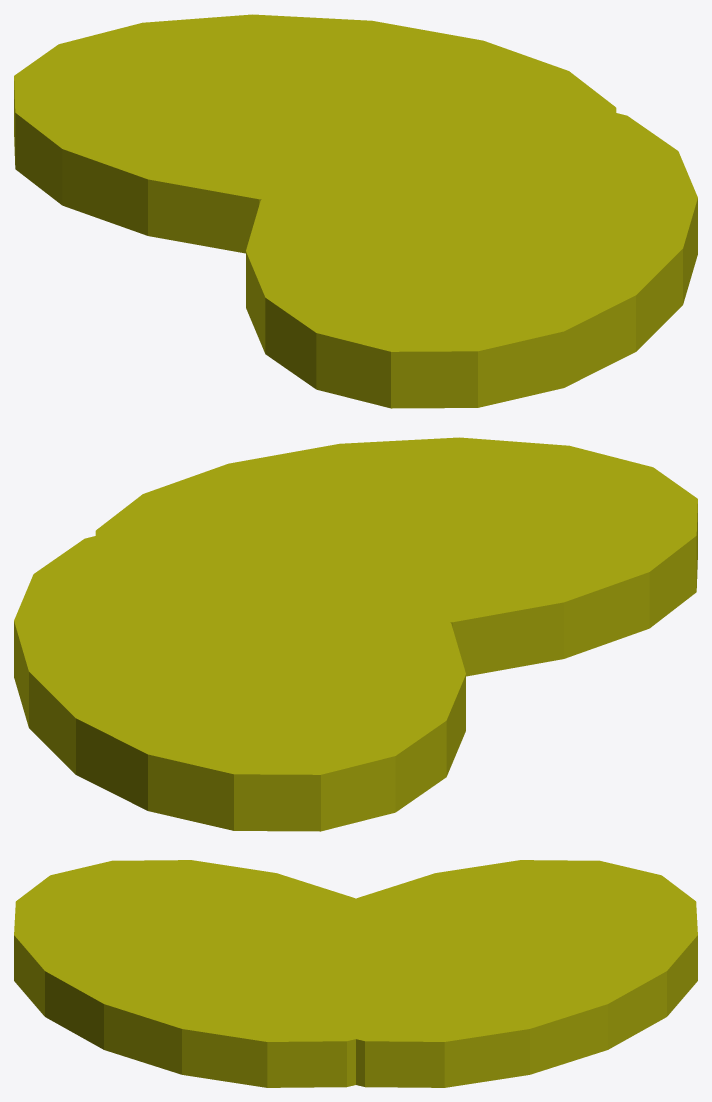
Rendered from friendfish_tail.obj.
The picture shows the model from 3 angles, top to bottom: view 1: azimuth 30°, elevation 25°; view 2: azimuth 150°, elevation 25°; view 3: azimuth 270°, elevation 25°; orthographic projection. The views are drawn at different scales.
Visible parts, largest first — view 1: unnamed_object1; view 2: unnamed_object1; view 3: unnamed_object1.
Boxes of the visible parts, x1,y1,x2,y2 form: unnamed_object1: [14, 14, 697, 408]; unnamed_object1: [14, 437, 697, 831]; unnamed_object1: [14, 860, 697, 1087].
Size of the model in its own units: 8.5 by 1 by 13.5.
